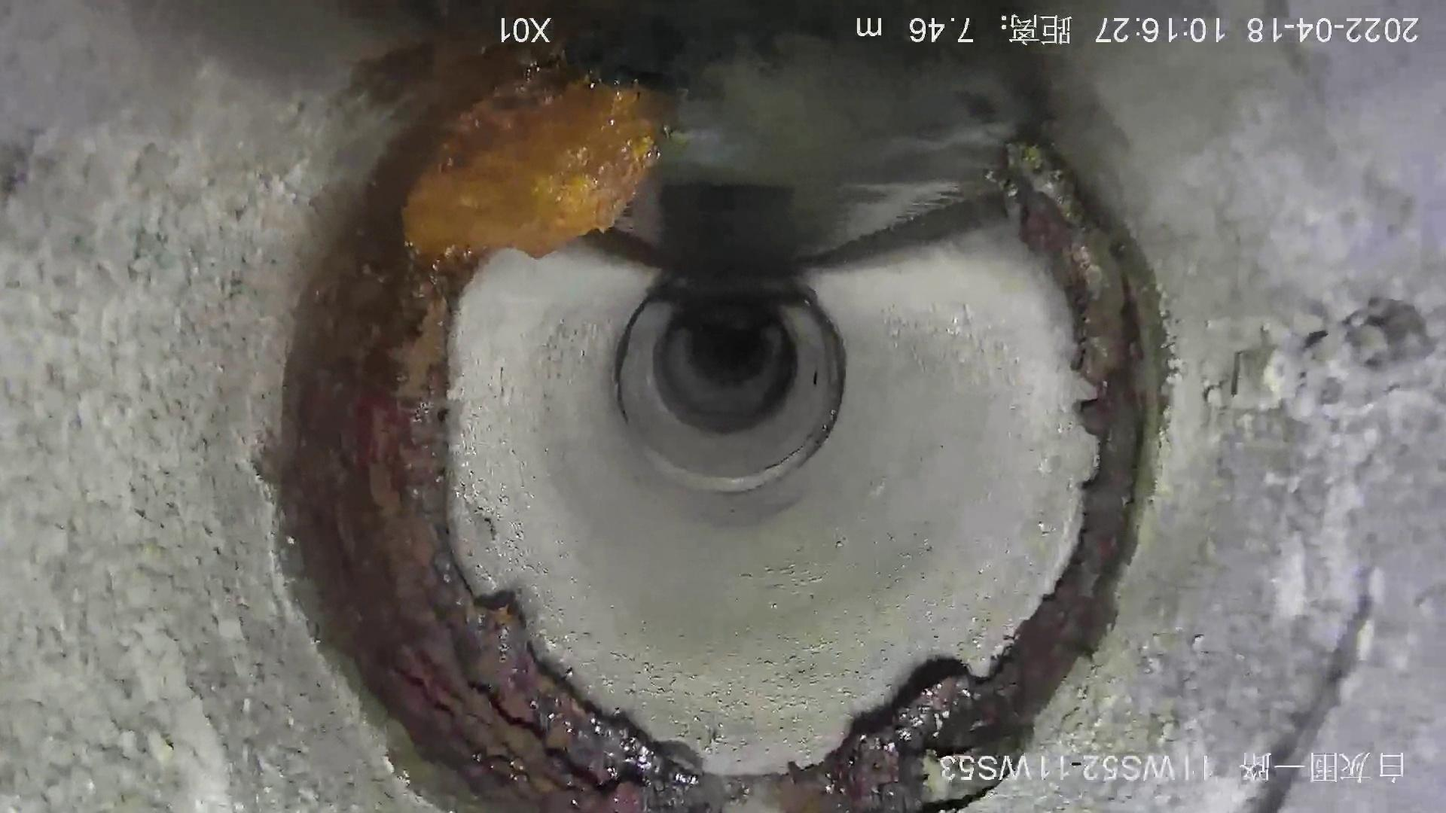CKTJ: (285, 50, 1164, 813), (645, 331, 845, 493)
